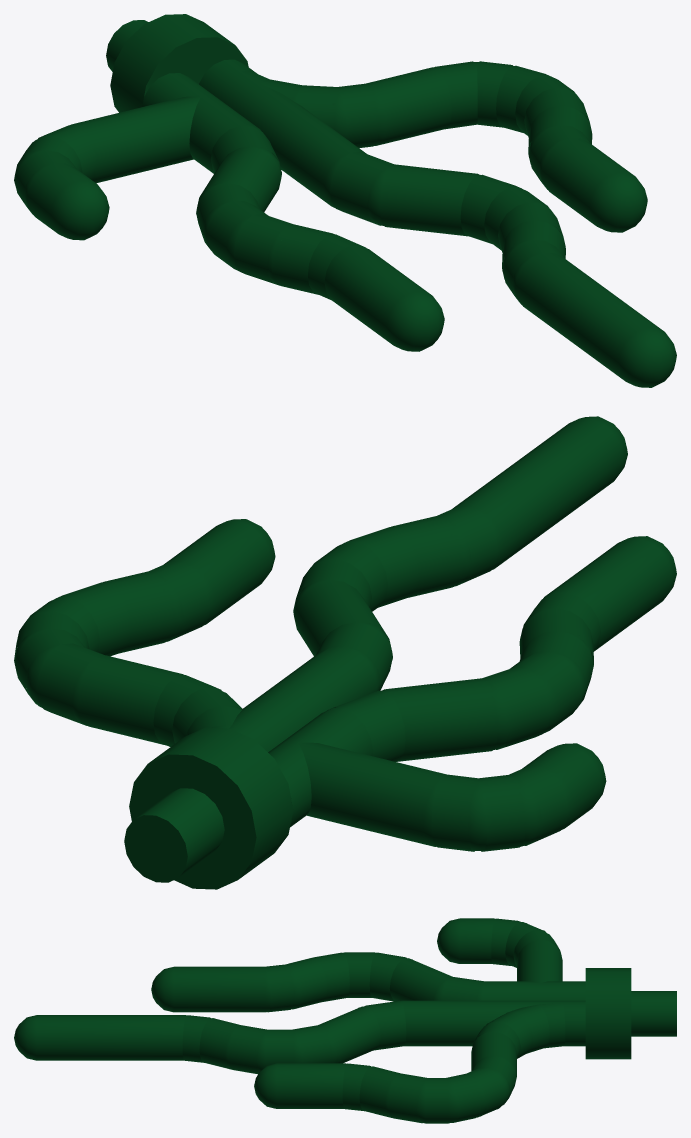
Rendered from grass3.obj.
3 views of the same model, one above another, from view 1: azimuth 30°, elevation 25°; view 2: azimuth 150°, elevation 25°; view 3: azimuth 270°, elevation 25° (orthographic). The views are drawn at different scales.
Visible parts, largest first — view 1: Piece000; view 2: Piece000; view 3: Piece000.
Boxes of the visible parts, <box> form: Piece000: <box>14,14,676,387</box>; Piece000: <box>14,416,676,889</box>; Piece000: <box>14,918,676,1123</box>.
Bounding box in the file's own units: 74 × 16 × 116.
